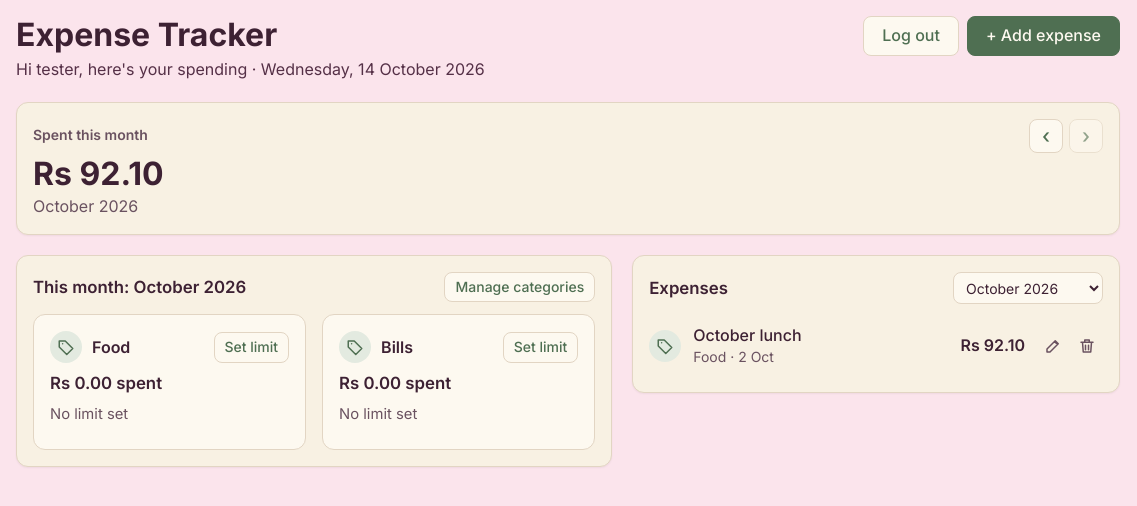
a chosen month whose last expense is deleted stays chosen and says it is empty
Expected: the text "Rs 92.10" below "Spent this month" is shown, [33, 154, 164, 193]
Select "September 2026" in the dropdown named "Show expenses from": (1028, 288) [953, 272, 1103, 304]
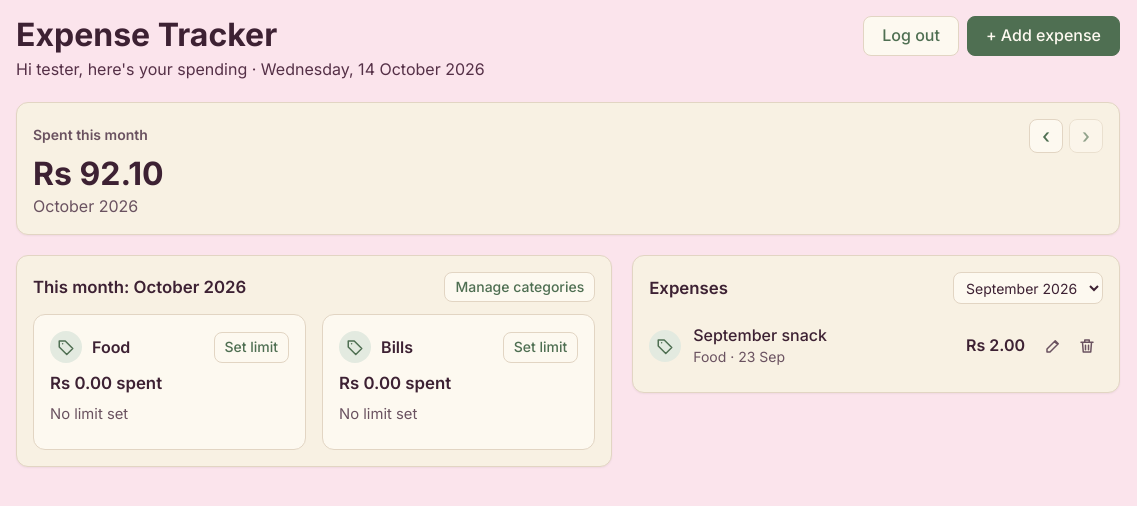
Click the button named "Delete expense": (1087, 346) [1071, 330, 1103, 362]
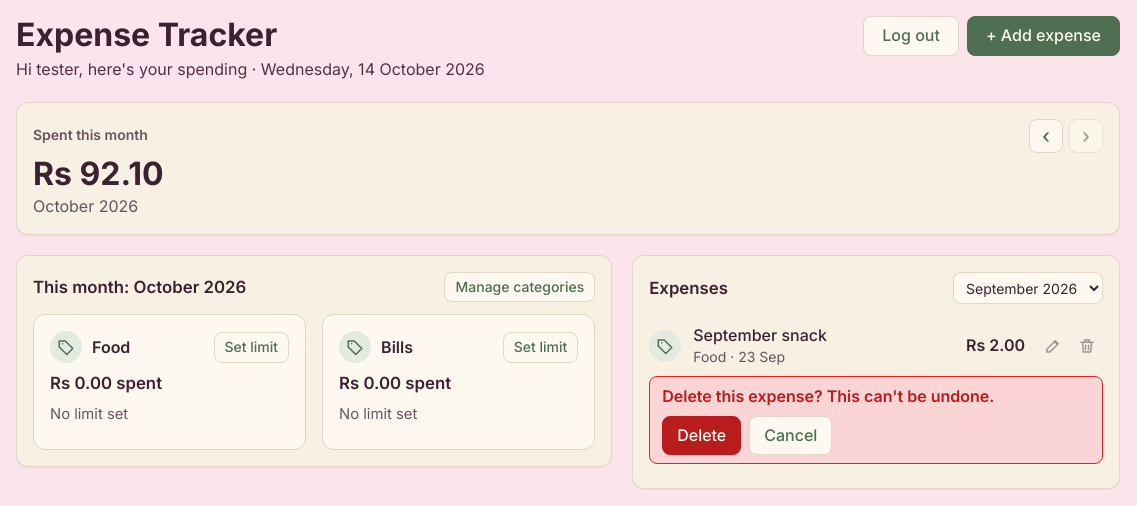
Click the button "Delete": (702, 435) [662, 416, 741, 455]
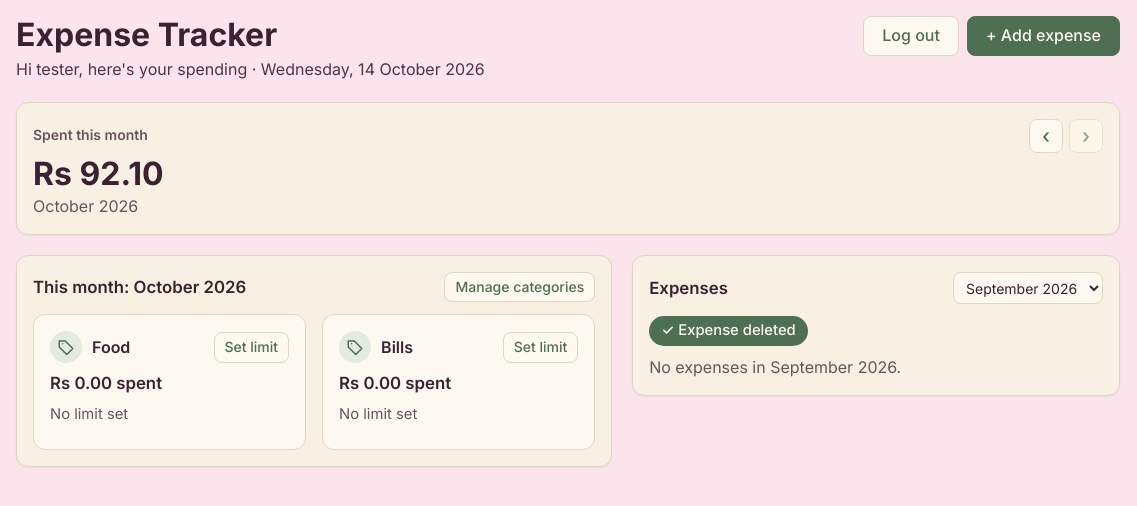
Now the text "No expenses in September 2026." is shown, box [649, 357, 901, 377]
